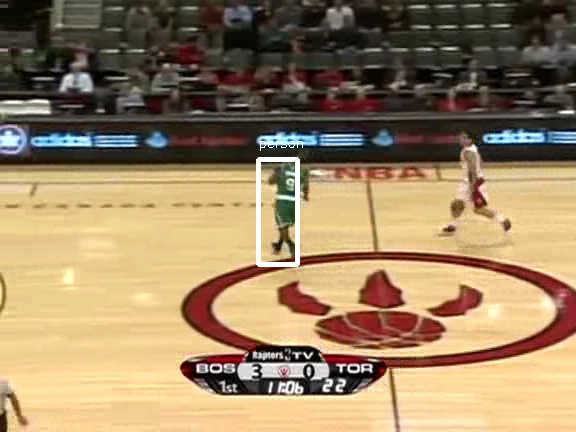person: (271, 152, 305, 233), (270, 152, 304, 233), (272, 152, 306, 233), (271, 151, 305, 232), (271, 153, 305, 234)
target_negative: (121, 85, 574, 414), (86, 10, 423, 181), (152, 52, 283, 392), (307, 378, 509, 398), (92, 227, 227, 254), (567, 210, 573, 266)
